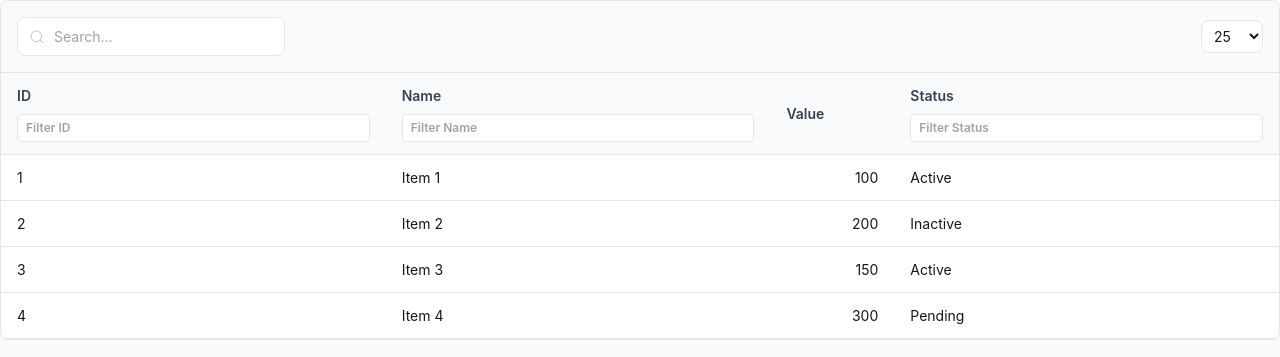
Test case: AdvancedDataTable Component › clears filters when clear button is clicked
Type "test" into the field with class "search-input". click: (151, 36)
box: [17,17,285,56]
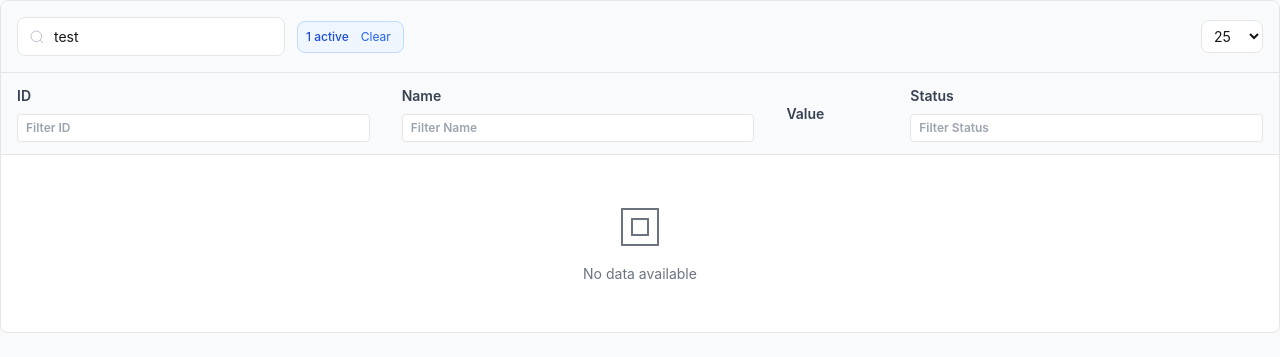
Now the element with class "active-filters" is shown, box [297,20,404,52]
Click the button with class "clear-filters-btn". click: (376, 36)
box: [357,26,395,48]
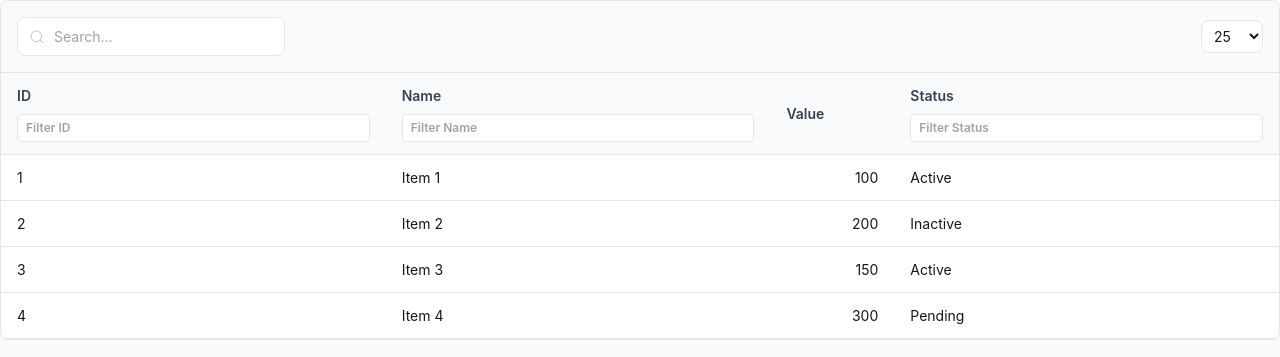
Now the field with class "search-input" is empty, box [17,17,285,56]
